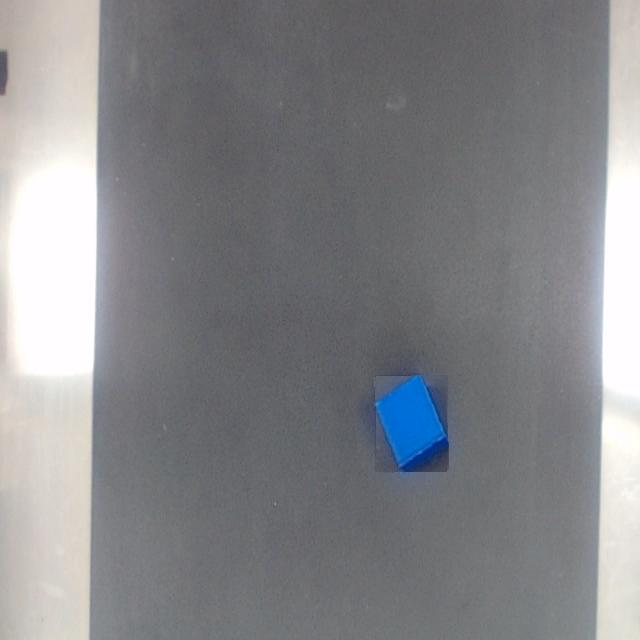Azul: (375, 376, 448, 472)
